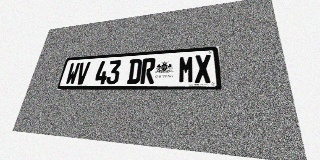3: (106, 60, 122, 84)
4: (94, 61, 110, 84)
D: (127, 59, 142, 84)
M: (178, 55, 194, 83)
R: (140, 58, 156, 84)
V: (75, 62, 91, 85)
W: (65, 62, 80, 85)
X: (195, 54, 212, 83)
